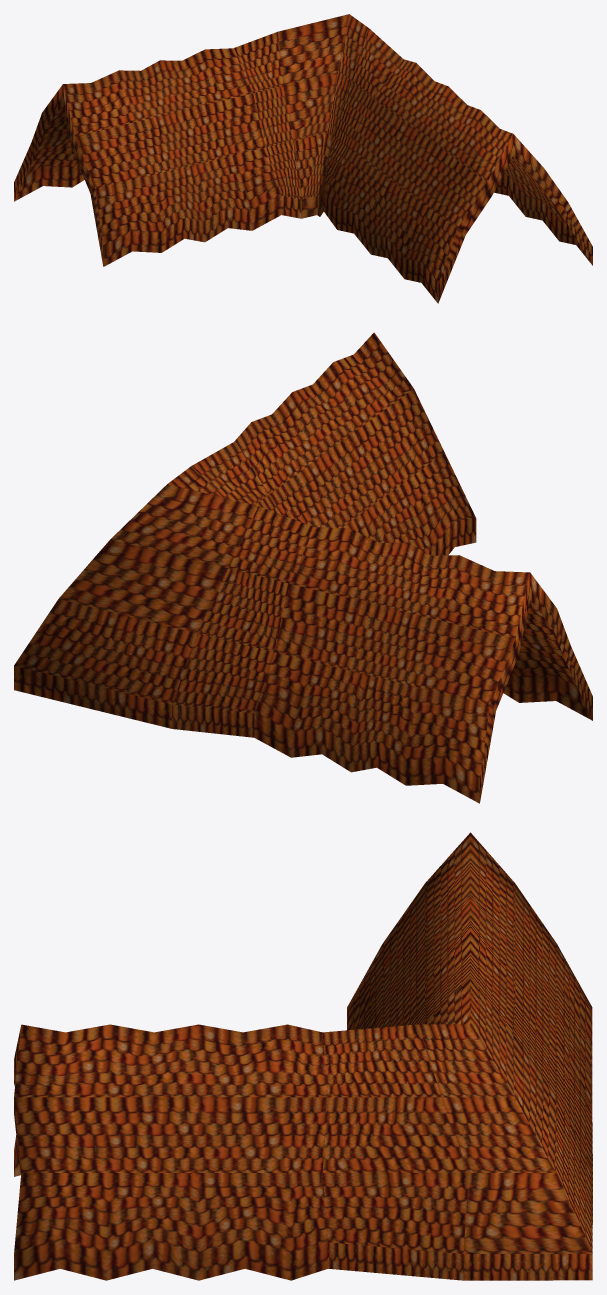
File: roof_forge.dae
The picture shows the model from 3 angles, top to bottom: view 1: azimuth 30°, elevation 25°; view 2: azimuth 150°, elevation 25°; view 3: azimuth 270°, elevation 25°; orthographic projection. The views are drawn at different scales.
Parts seen in each view (by area): view 1: forge.001; view 2: forge.001; view 3: forge.001.
Part boxes in pixels (x1,y1,x2,y2): forge.001: [14, 14, 592, 303]; forge.001: [14, 332, 592, 803]; forge.001: [14, 832, 592, 1280].
Bounding box in the file's own units: 18 × 17.85 × 6.97.
